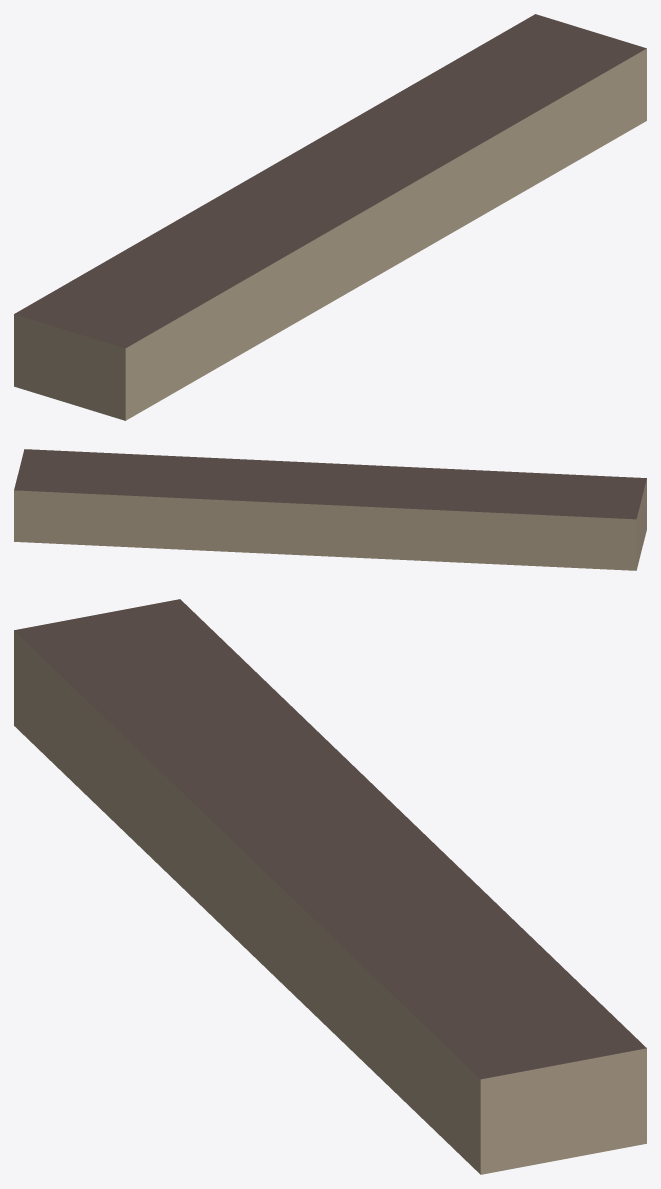
3 views of the same model, one above another, from view 1: azimuth 30°, elevation 25°; view 2: azimuth 150°, elevation 25°; view 3: azimuth 270°, elevation 25° (orthographic). The views are drawn at different scales.
Visible parts, largest first — view 1: HP-w859086208; view 2: HP-w859086208; view 3: HP-w859086208.
Boxes of the visible parts, <box> form: HP-w859086208: <box>14,14,646,420</box>; HP-w859086208: <box>14,449,646,570</box>; HP-w859086208: <box>14,599,646,1174</box>.
Size of the model in its own units: 97.11 by 9 by 54.08.
